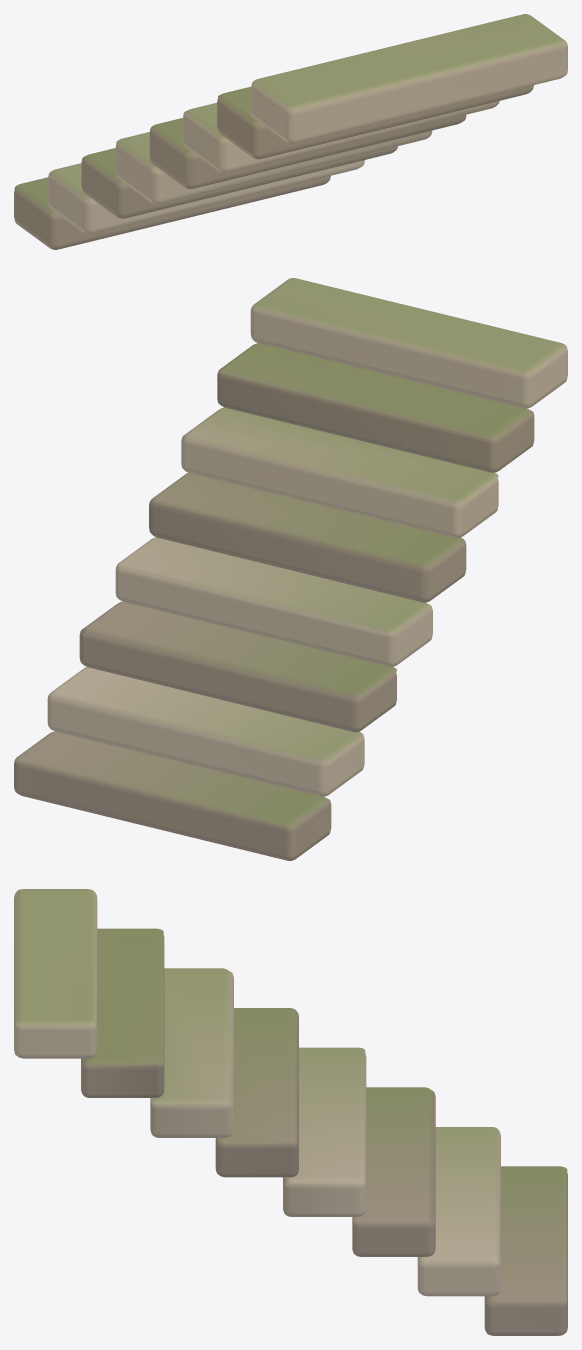
The model's file is stair.glb.
3 renders of one model, top to bottom at view 1: azimuth 30°, elevation 25°; view 2: azimuth 150°, elevation 25°; view 3: azimuth 270°, elevation 25°, orthographic.
Visible parts, largest first — view 1: stair; view 2: stair; view 3: stair.
Boxes of the visible parts, bbox=[...] form: stair: bbox=[14, 14, 567, 249]; stair: bbox=[14, 278, 567, 860]; stair: bbox=[14, 889, 567, 1335].
Bounding box in the file's own units: 2.41 × 2.6 × 4.12.
